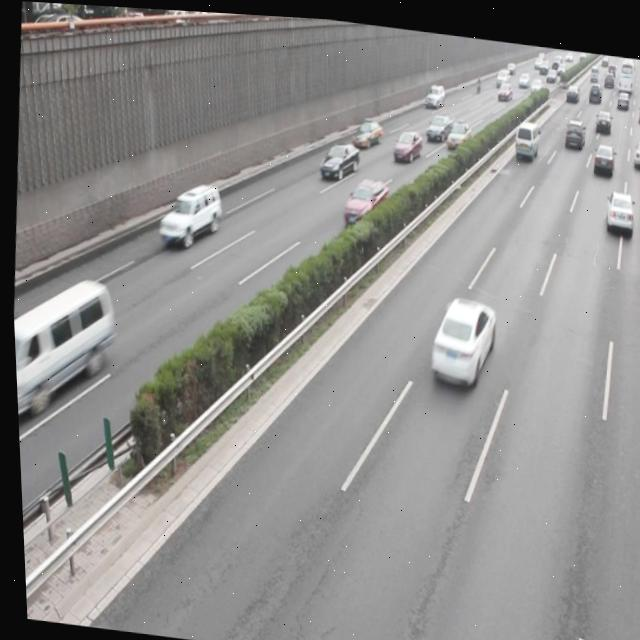car: (420, 285, 495, 384), (153, 174, 223, 246), (339, 169, 388, 226), (316, 134, 359, 180), (601, 180, 632, 228), (390, 121, 421, 160), (348, 111, 380, 146), (589, 134, 612, 168)
truck: (9, 269, 117, 430)
